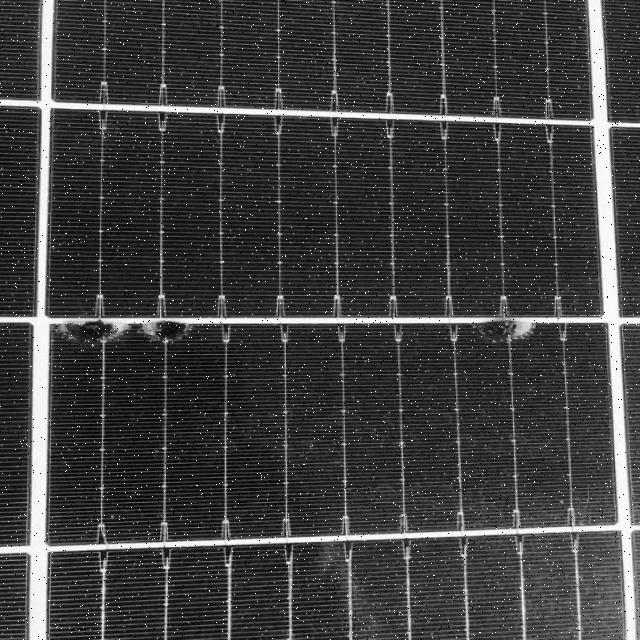electrical damage: (53, 296, 130, 360), (125, 304, 210, 352), (468, 298, 549, 343)
